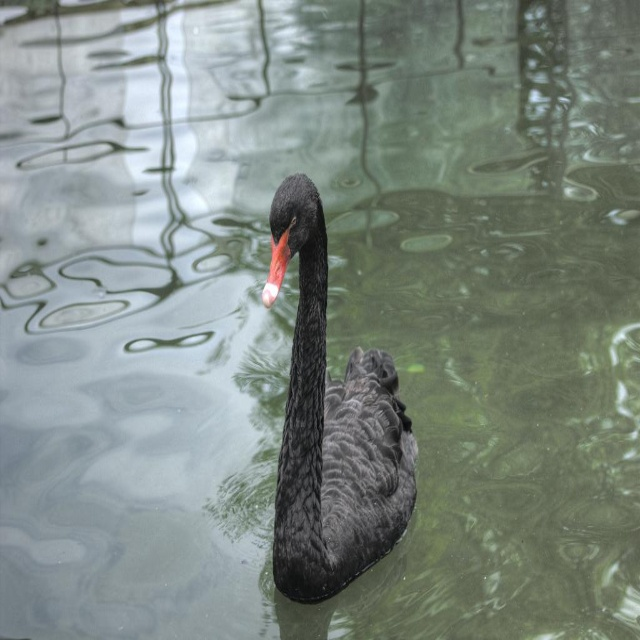Swan: (262, 170, 419, 605)
